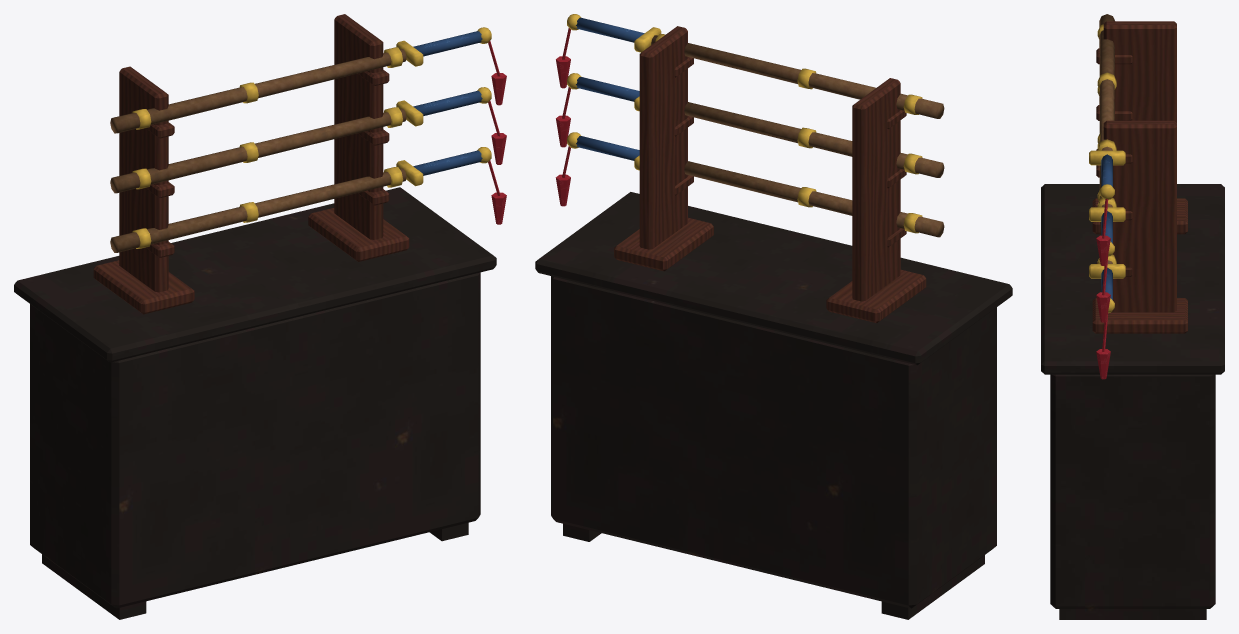
Rendered from sword_stand.glb.
The picture shows the model from 3 angles, left to right: view 1: azimuth 30°, elevation 25°; view 2: azimuth 150°, elevation 25°; view 3: azimuth 270°, elevation 25°; orthographic projection. The views are drawn at different scales.
Visible parts, largest first — view 1: SwordCabinet, SwordStand, Scabbards, SwordFittings, SwordGrips, SwordTassels; view 2: SwordCabinet, SwordStand, Scabbards, SwordFittings, SwordGrips, SwordTassels; view 3: SwordCabinet, SwordStand, SwordFittings, Scabbards, SwordTassels, SwordGrips.
Boxes of the visible parts, x1,y1,x2,y2 form: SwordCabinet: (14,187,496,619); SwordStand: (93,14,409,314); Scabbards: (110,49,406,252); SwordFittings: (132,27,491,248); SwordGrips: (413,31,482,175); SwordTassels: (488,41,506,224); SwordCabinet: (535,192,1012,619); SwordStand: (614,26,926,323); Scabbards: (651,35,944,237); SwordFittings: (567,14,922,233); SwordGrips: (576,17,644,160); SwordTassels: (555,28,570,206); SwordCabinet: (1041,184,1224,619); SwordStand: (1092,21,1187,333); SwordFittings: (1089,24,1125,312); Scabbards: (1099,14,1114,263); SwordTassels: (1096,198,1110,379); SwordGrips: (1101,154,1112,300).
Size of what is drawn, in the model's own units: 1.28 by 1.4 by 0.5.
Materials: 6 (6 with a texture image).
